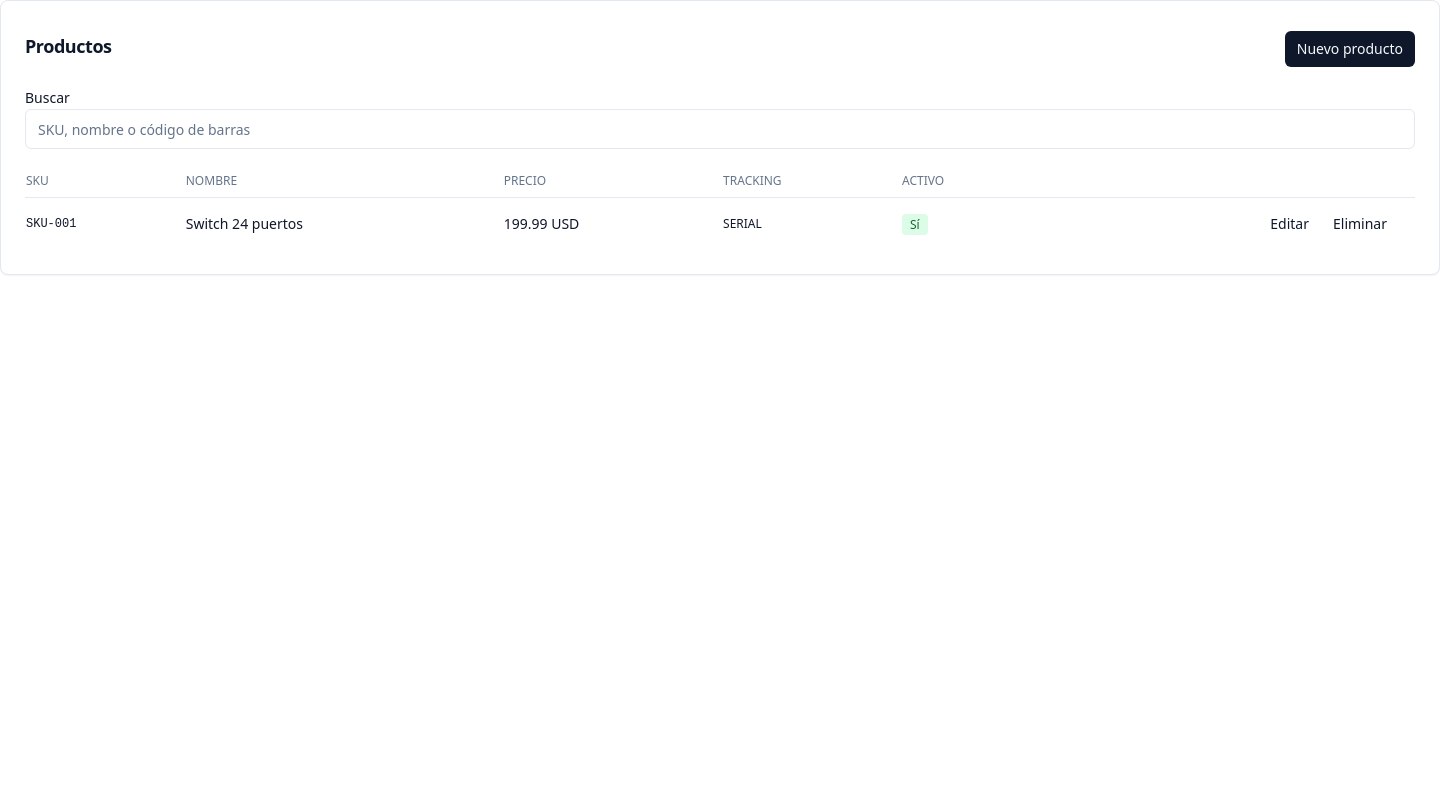
ProductsPage — pestaña Precios 3 niveles (HU-11.2) › editar margen en entero recalcula precio redondeado a 2 dec. 30 → "142,86" en display
Click the button "Editar".
click(1290, 224)  # box [1258,206,1321,242]
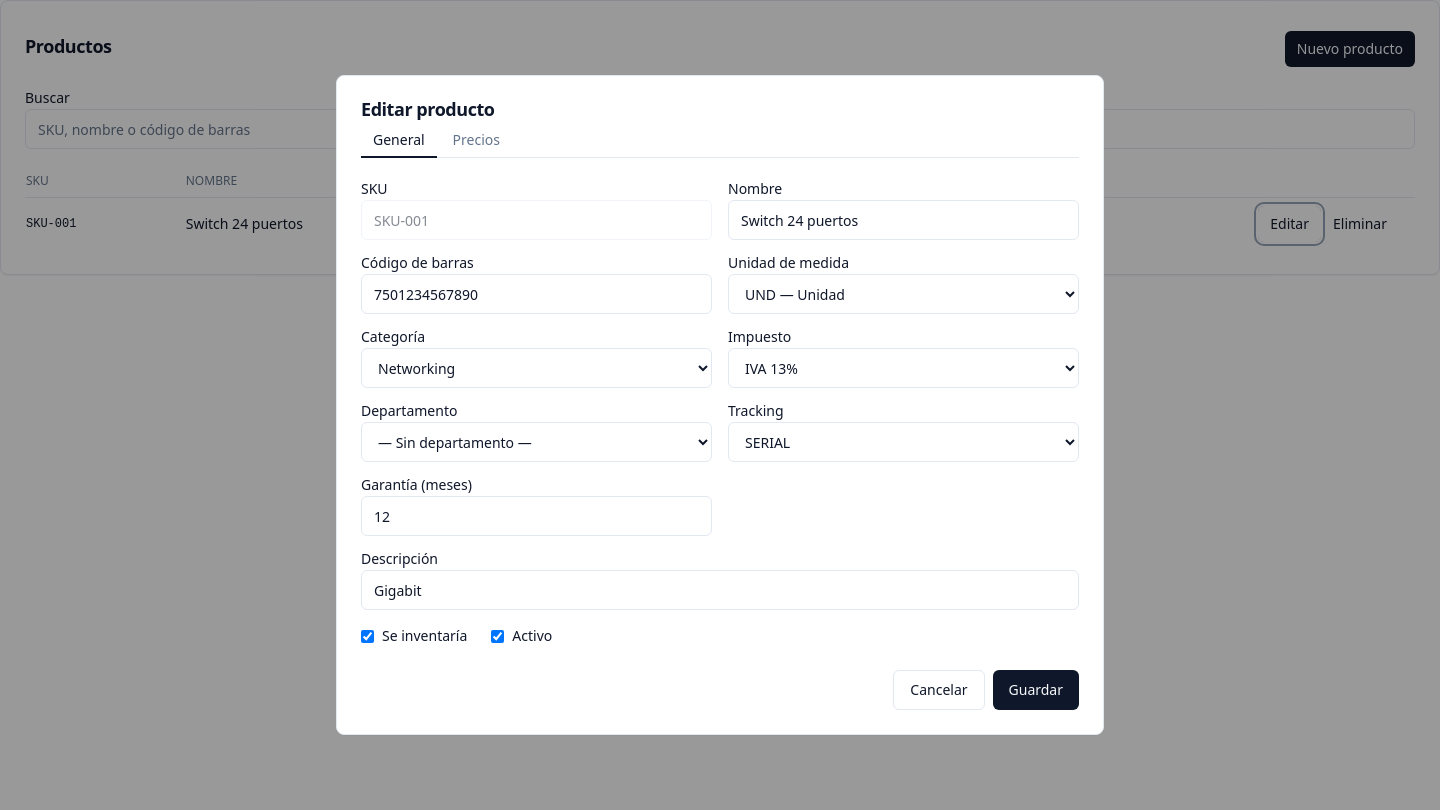
Expected: the heading "Editar producto" is shown, [361,97,494,121]
Click the button "Precios".
click(476, 141)  # box [441,124,512,158]
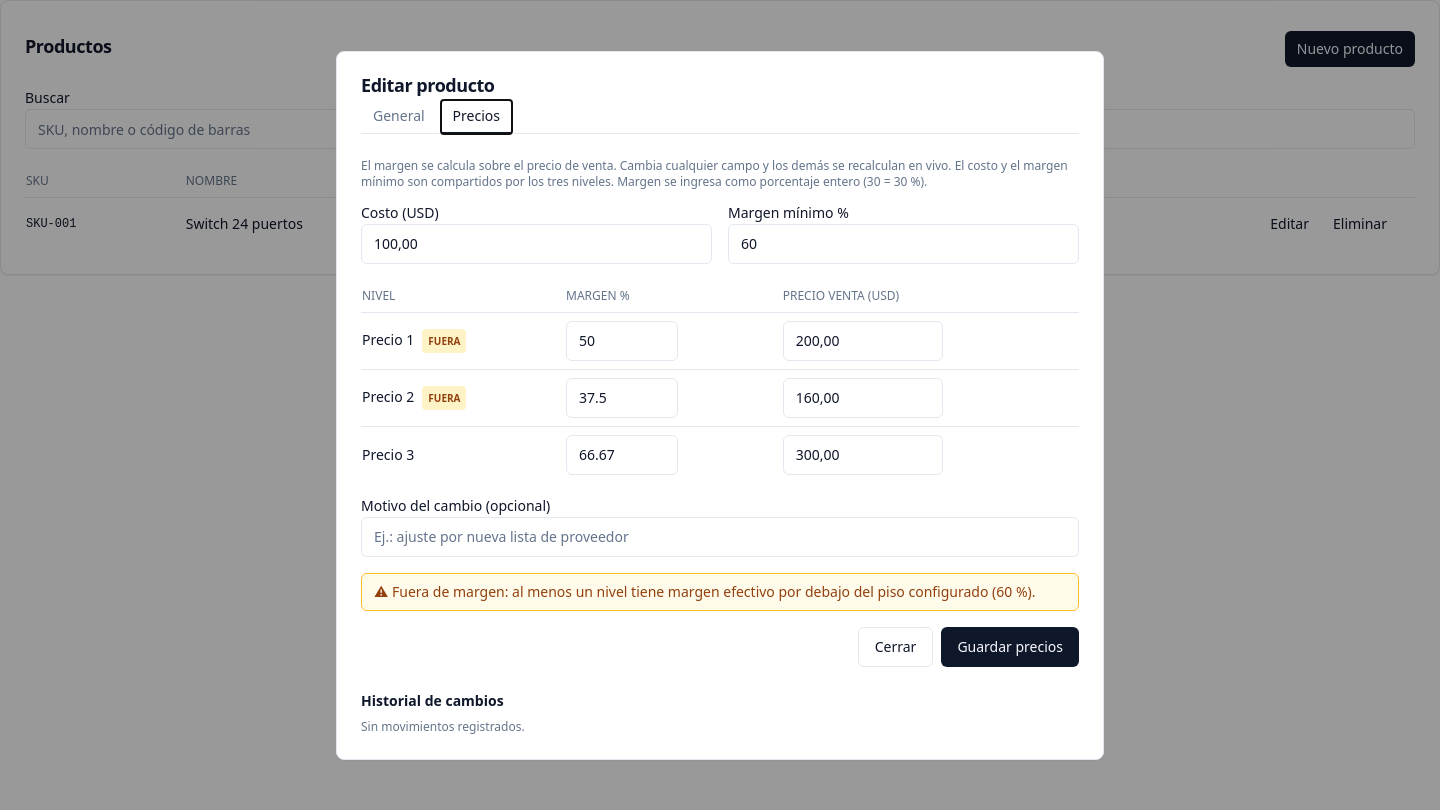
Expected: the field labelled "Costo (USD)" holds "100,00", [361,224,712,264]
Replace the text in the 3rd field with "30" at (622, 340), box [566,320,678,360]
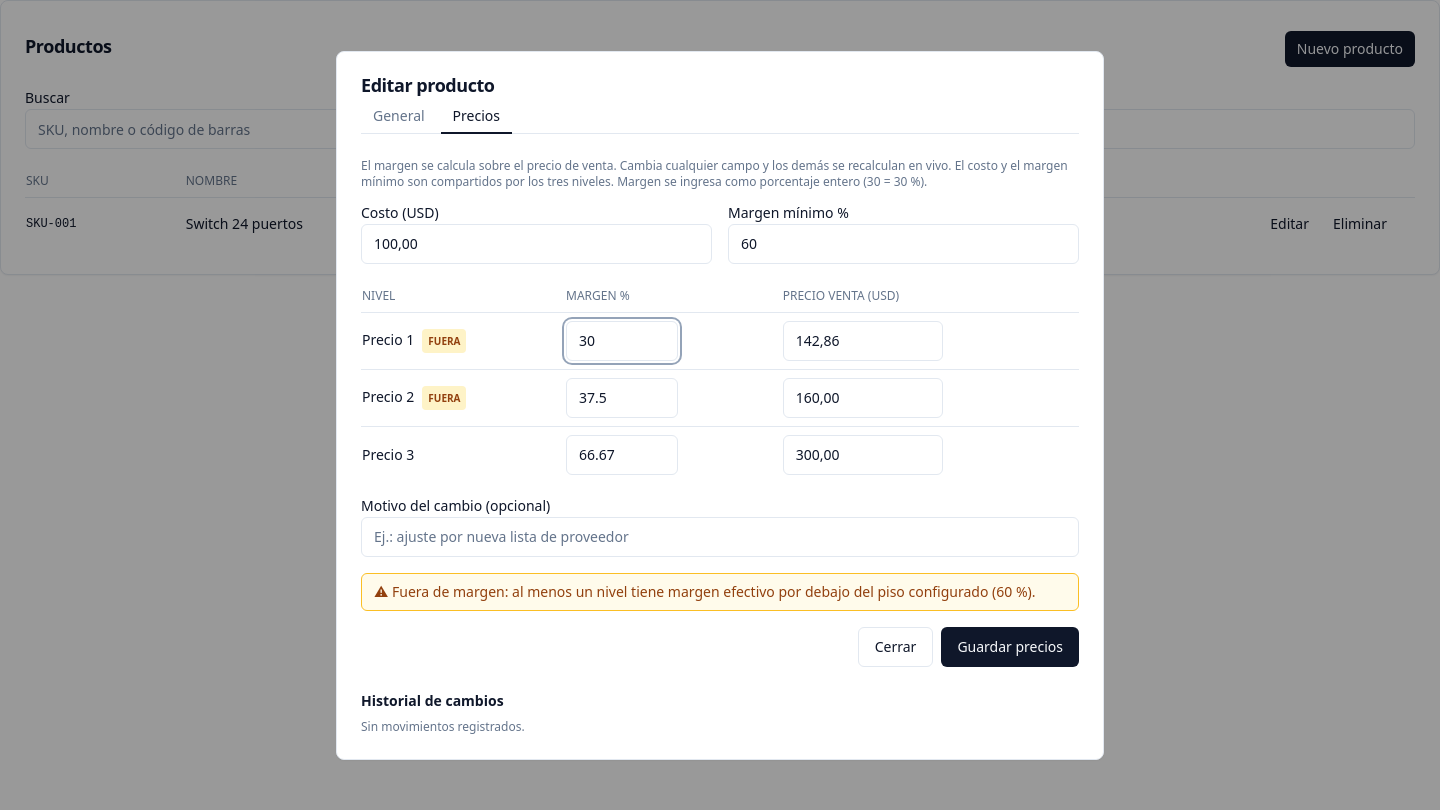
Expected: the 4th field holds "142,86", [783,320,943,360]
